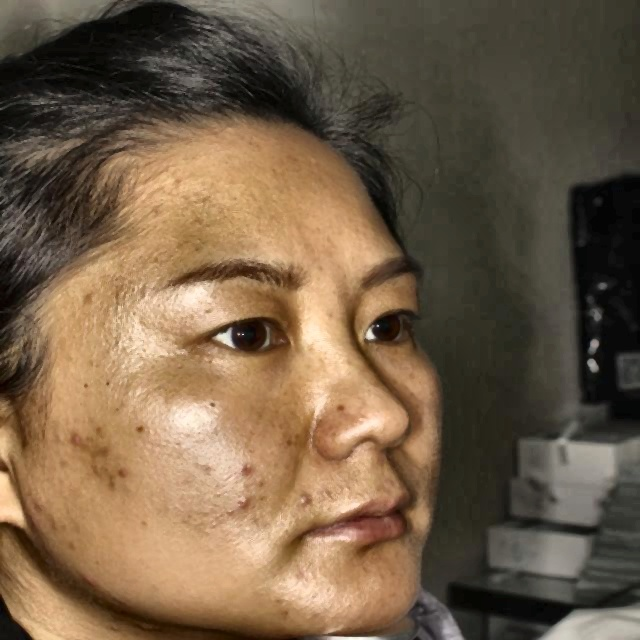comedone: (104, 465, 134, 501), (232, 486, 264, 516), (232, 456, 262, 485), (298, 489, 327, 515), (62, 429, 87, 455)
